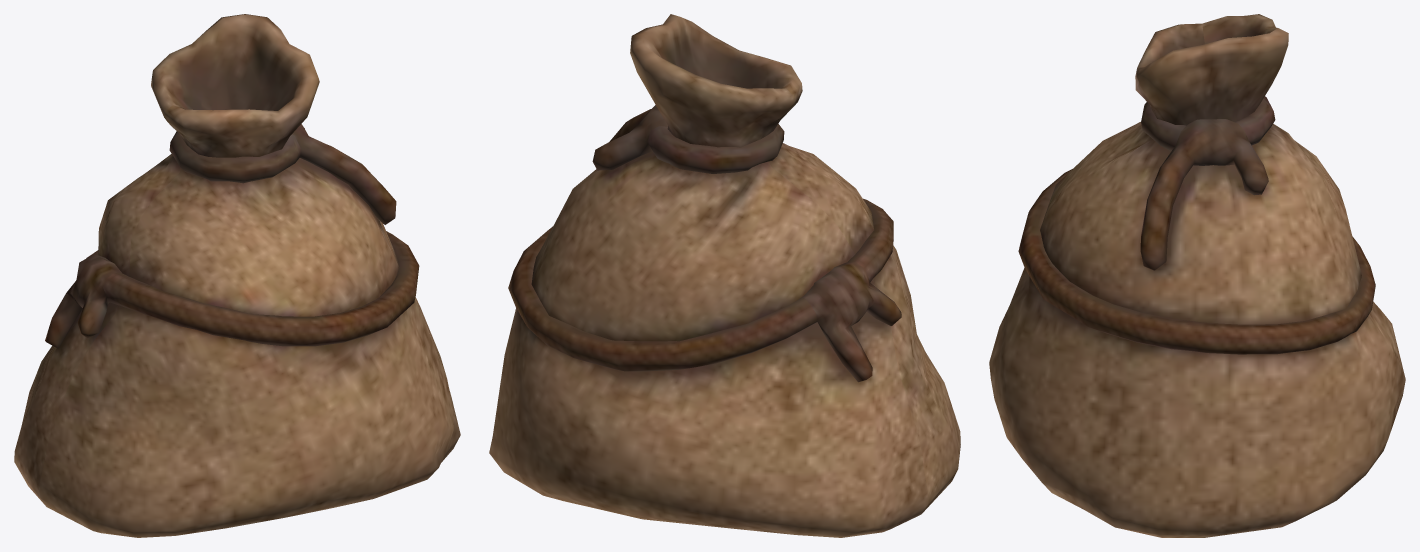
File: SM_Bag_Dummy_514280.glb
The picture shows the model from 3 angles, left to right: view 1: azimuth 30°, elevation 25°; view 2: azimuth 150°, elevation 25°; view 3: azimuth 270°, elevation 25°; orthographic projection. The views are drawn at different scales.
Size of the model in its own units: 0.4684 by 0.4924 by 0.4191.
Materials: 1 (1 with a texture image).
